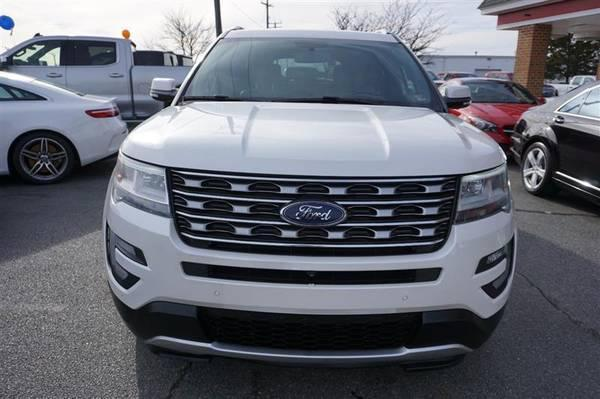Front_Bumper: (102, 193, 513, 370)
Front_Windshield: (174, 36, 446, 111)
Grille: (167, 169, 461, 258)
Hood: (121, 102, 504, 178)
Left_Headlight: (452, 160, 510, 226)
Left_Mirror: (444, 84, 474, 110)
Right_Headlight: (110, 151, 170, 219)
Right_Mirror: (148, 75, 175, 101)
